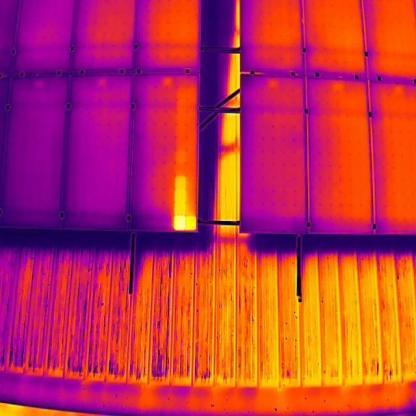anomaly: (171, 174, 198, 232)
